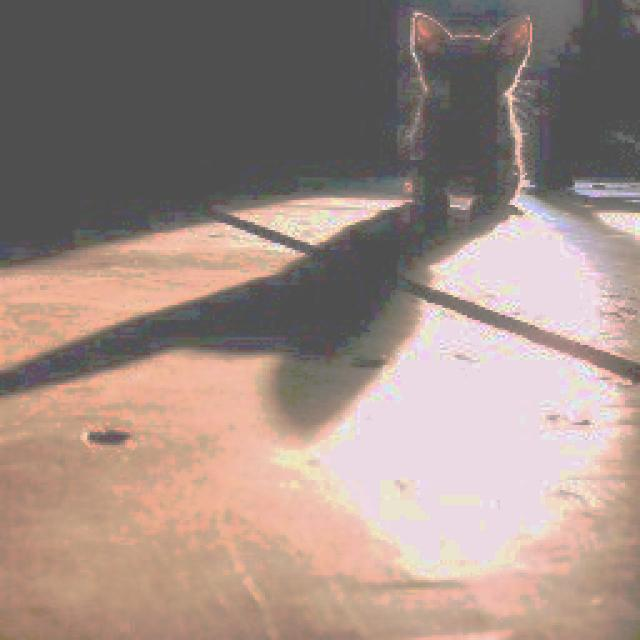cat: (404, 10, 537, 232)
